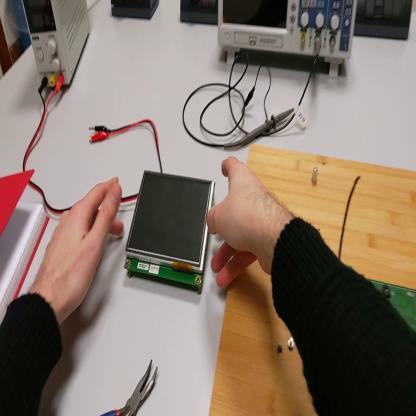hand: (36, 178, 125, 322), (206, 155, 275, 285)
low voltage board: (338, 178, 416, 330)
oscilloscope: (217, 1, 358, 79)
oscilloscope probe tip: (224, 109, 294, 149)
pliers: (102, 357, 159, 416)
power supply: (23, 3, 91, 90)
register: (1, 171, 51, 312)
socket: (111, 2, 161, 21), (180, 3, 219, 26)
working area: (213, 152, 416, 416)
